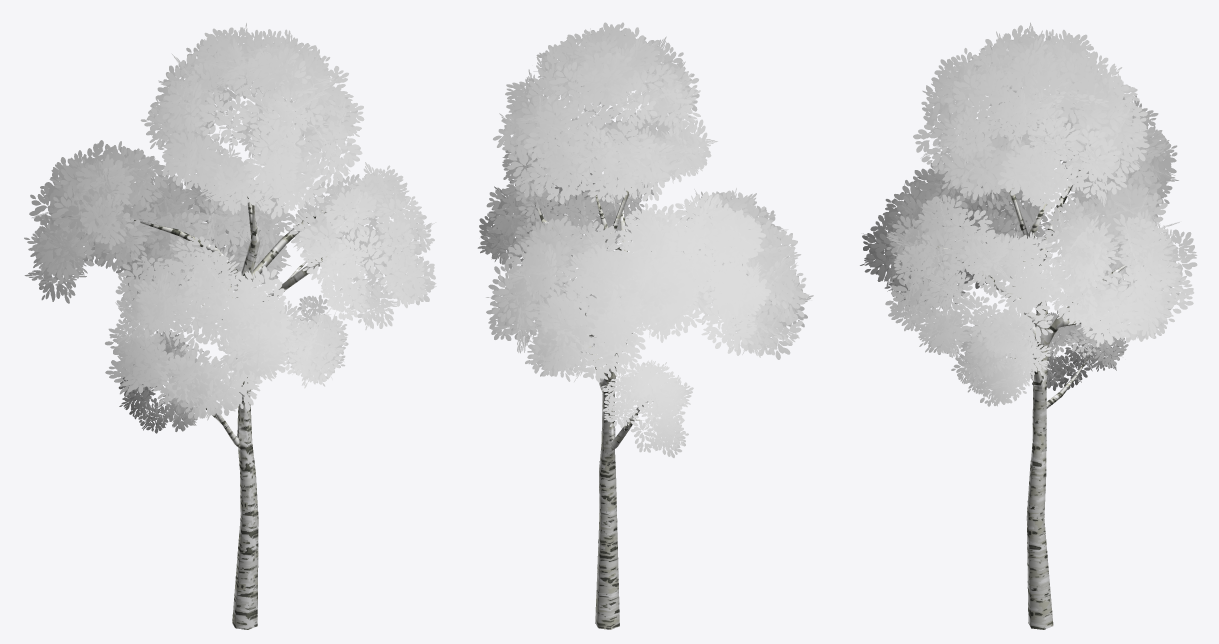
Rendered from SM_ENV_tree_city_01.fbx.
3 renders of one model, left to right at view 1: azimuth 30°, elevation 25°; view 2: azimuth 150°, elevation 25°; view 3: azimuth 270°, elevation 25°, orthographic.
Parts seen in each view (by area): view 1: SM_ENV_tree_city_01_LOD0; view 2: SM_ENV_tree_city_01_LOD0; view 3: SM_ENV_tree_city_01_LOD0.
Boxes of the visible parts, left/top/right/bottom form: SM_ENV_tree_city_01_LOD0: left=24, top=23, right=436, bottom=629; SM_ENV_tree_city_01_LOD0: left=477, top=22, right=813, bottom=629; SM_ENV_tree_city_01_LOD0: left=860, top=22, right=1197, bottom=629.
Size of what is drawn, in the model's own units: 587 by 972 by 522.
